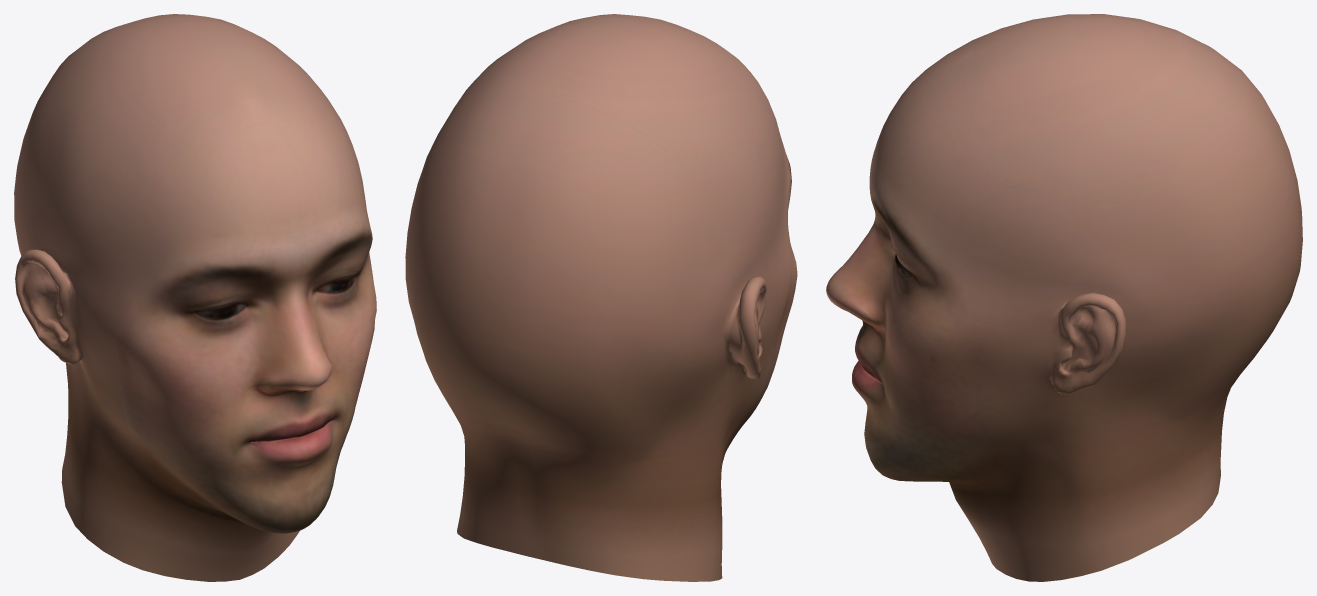
The model's file is Robert.fbx.
The picture shows the model from 3 angles, left to right: view 1: azimuth 30°, elevation 25°; view 2: azimuth 150°, elevation 25°; view 3: azimuth 270°, elevation 25°; orthographic projection. The views are drawn at different scales.
Parts seen in each view (by area): view 1: HeadHires; view 2: HeadHires; view 3: HeadHires.
Boxes of the visible parts, x1,y1,x2,y2 form: HeadHires: (14,14,376,581); HeadHires: (405,14,797,581); HeadHires: (826,14,1302,581).
Size of the model in its own units: 186 by 283 by 232.
1 material, 1 textured.
